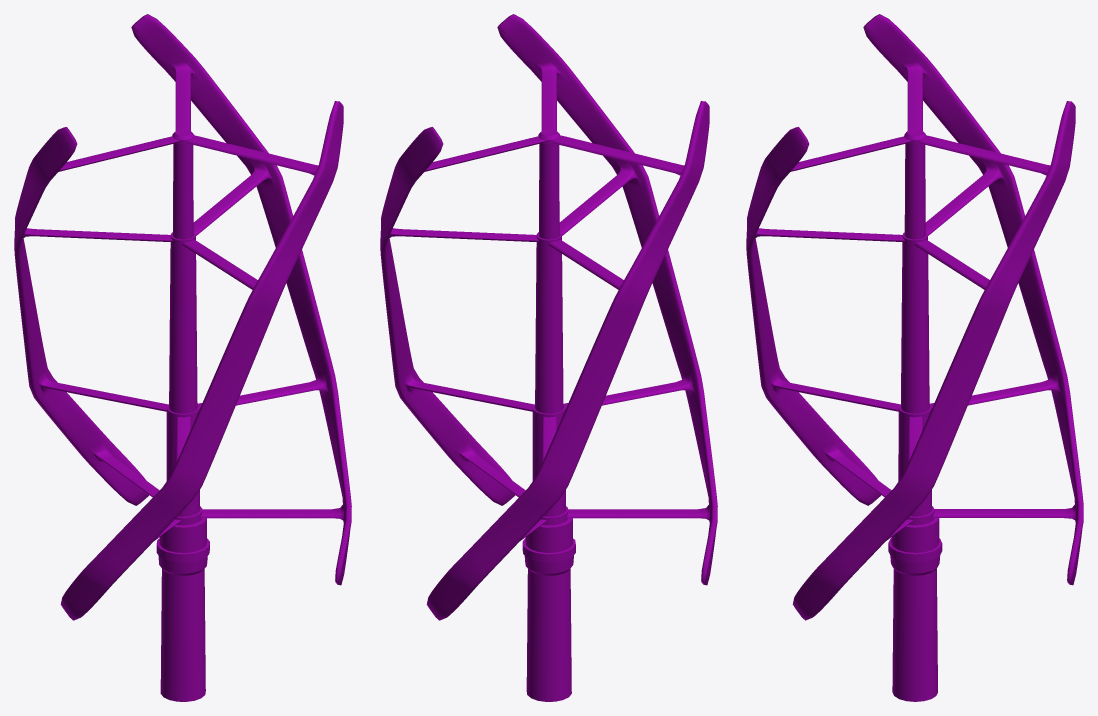
The model's file is vertical_axis_wind_turbine_GEO.fbx.
3 renders of one model, left to right at view 1: azimuth 30°, elevation 25°; view 2: azimuth 150°, elevation 25°; view 3: azimuth 270°, elevation 25°, orthographic.
Parts seen in each view (by area): view 1: vertical_axis_turbine_blade_GEO_003, vertical_axis_turbine_blade_GEO_002, vertical_axis_turbine_blade_GEO_001, vertical_axis_turbine_tower_GEO_001, vertical_axis_turbine_base_GEO_001; view 2: vertical_axis_turbine_blade_GEO_001, vertical_axis_turbine_blade_GEO_003, vertical_axis_turbine_blade_GEO_002, vertical_axis_turbine_tower_GEO_001, vertical_axis_turbine_base_GEO_001; view 3: vertical_axis_turbine_blade_GEO_002, vertical_axis_turbine_blade_GEO_001, vertical_axis_turbine_blade_GEO_003, vertical_axis_turbine_tower_GEO_001, vertical_axis_turbine_base_GEO_001.
Part boxes in pixels (bbox=[...]): vertical_axis_turbine_blade_GEO_003: bbox=[60, 101, 343, 620]; vertical_axis_turbine_blade_GEO_002: bbox=[131, 14, 351, 585]; vertical_axis_turbine_blade_GEO_001: bbox=[14, 127, 179, 505]; vertical_axis_turbine_tower_GEO_001: bbox=[166, 129, 202, 525]; vertical_axis_turbine_base_GEO_001: bbox=[156, 518, 209, 701]; vertical_axis_turbine_blade_GEO_001: bbox=[426, 101, 709, 620]; vertical_axis_turbine_blade_GEO_003: bbox=[497, 14, 717, 585]; vertical_axis_turbine_blade_GEO_002: bbox=[380, 127, 545, 505]; vertical_axis_turbine_tower_GEO_001: bbox=[532, 129, 568, 525]; vertical_axis_turbine_base_GEO_001: bbox=[522, 518, 575, 701]; vertical_axis_turbine_blade_GEO_002: bbox=[792, 101, 1075, 620]; vertical_axis_turbine_blade_GEO_001: bbox=[863, 14, 1083, 585]; vertical_axis_turbine_blade_GEO_003: bbox=[746, 127, 911, 505]; vertical_axis_turbine_tower_GEO_001: bbox=[898, 129, 934, 525]; vertical_axis_turbine_base_GEO_001: bbox=[888, 518, 942, 701].
Size of the model in its own units: 4432 by 8856 by 4431.
